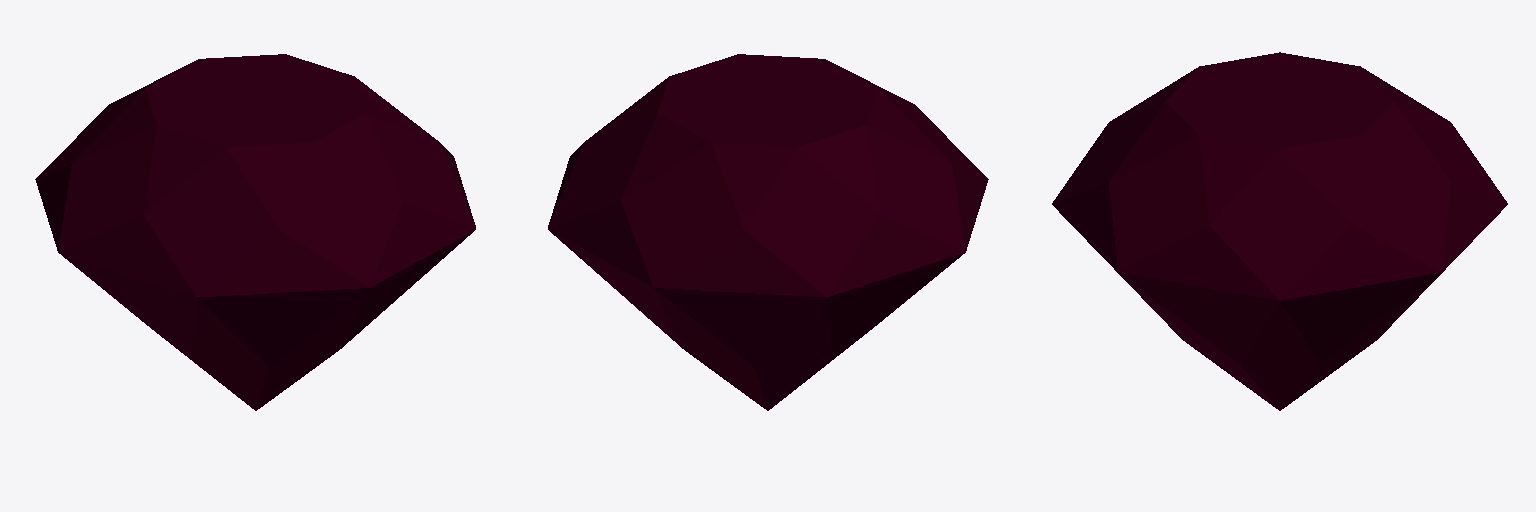
File: gemme.obj
3 renders of one model, left to right at view 1: azimuth 30°, elevation 25°; view 2: azimuth 150°, elevation 25°; view 3: azimuth 270°, elevation 25°, orthographic.
Parts seen in each view (by area): view 1: gemme; view 2: gemme; view 3: gemme.
Part boxes in pixels (bbox=[...]): gemme: bbox=[35, 54, 475, 410]; gemme: bbox=[548, 54, 988, 410]; gemme: bbox=[1052, 52, 1507, 410].
Bounding box in the file's own units: 16.34 × 12.25 × 16.34.